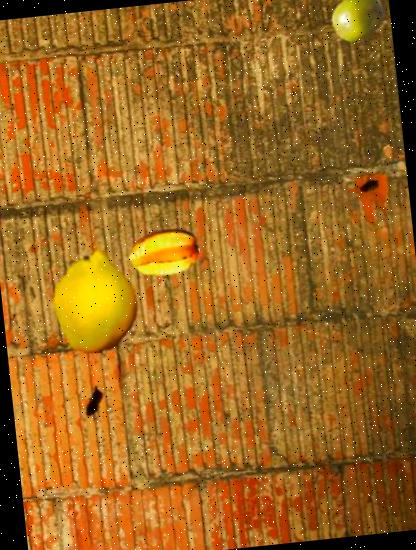Carambula: (125, 213, 203, 291)
Pomelo: (327, 0, 387, 46)
Quince: (38, 244, 152, 358)
